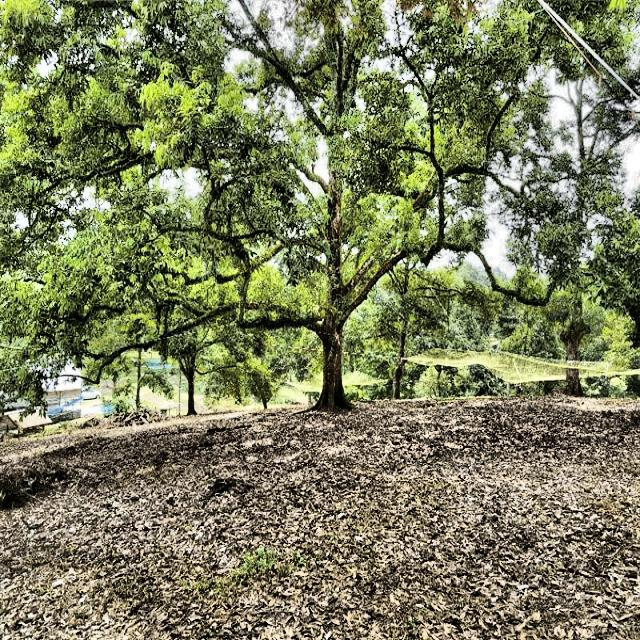arvore: (313, 122, 358, 424), (554, 248, 586, 416), (178, 325, 202, 443)
